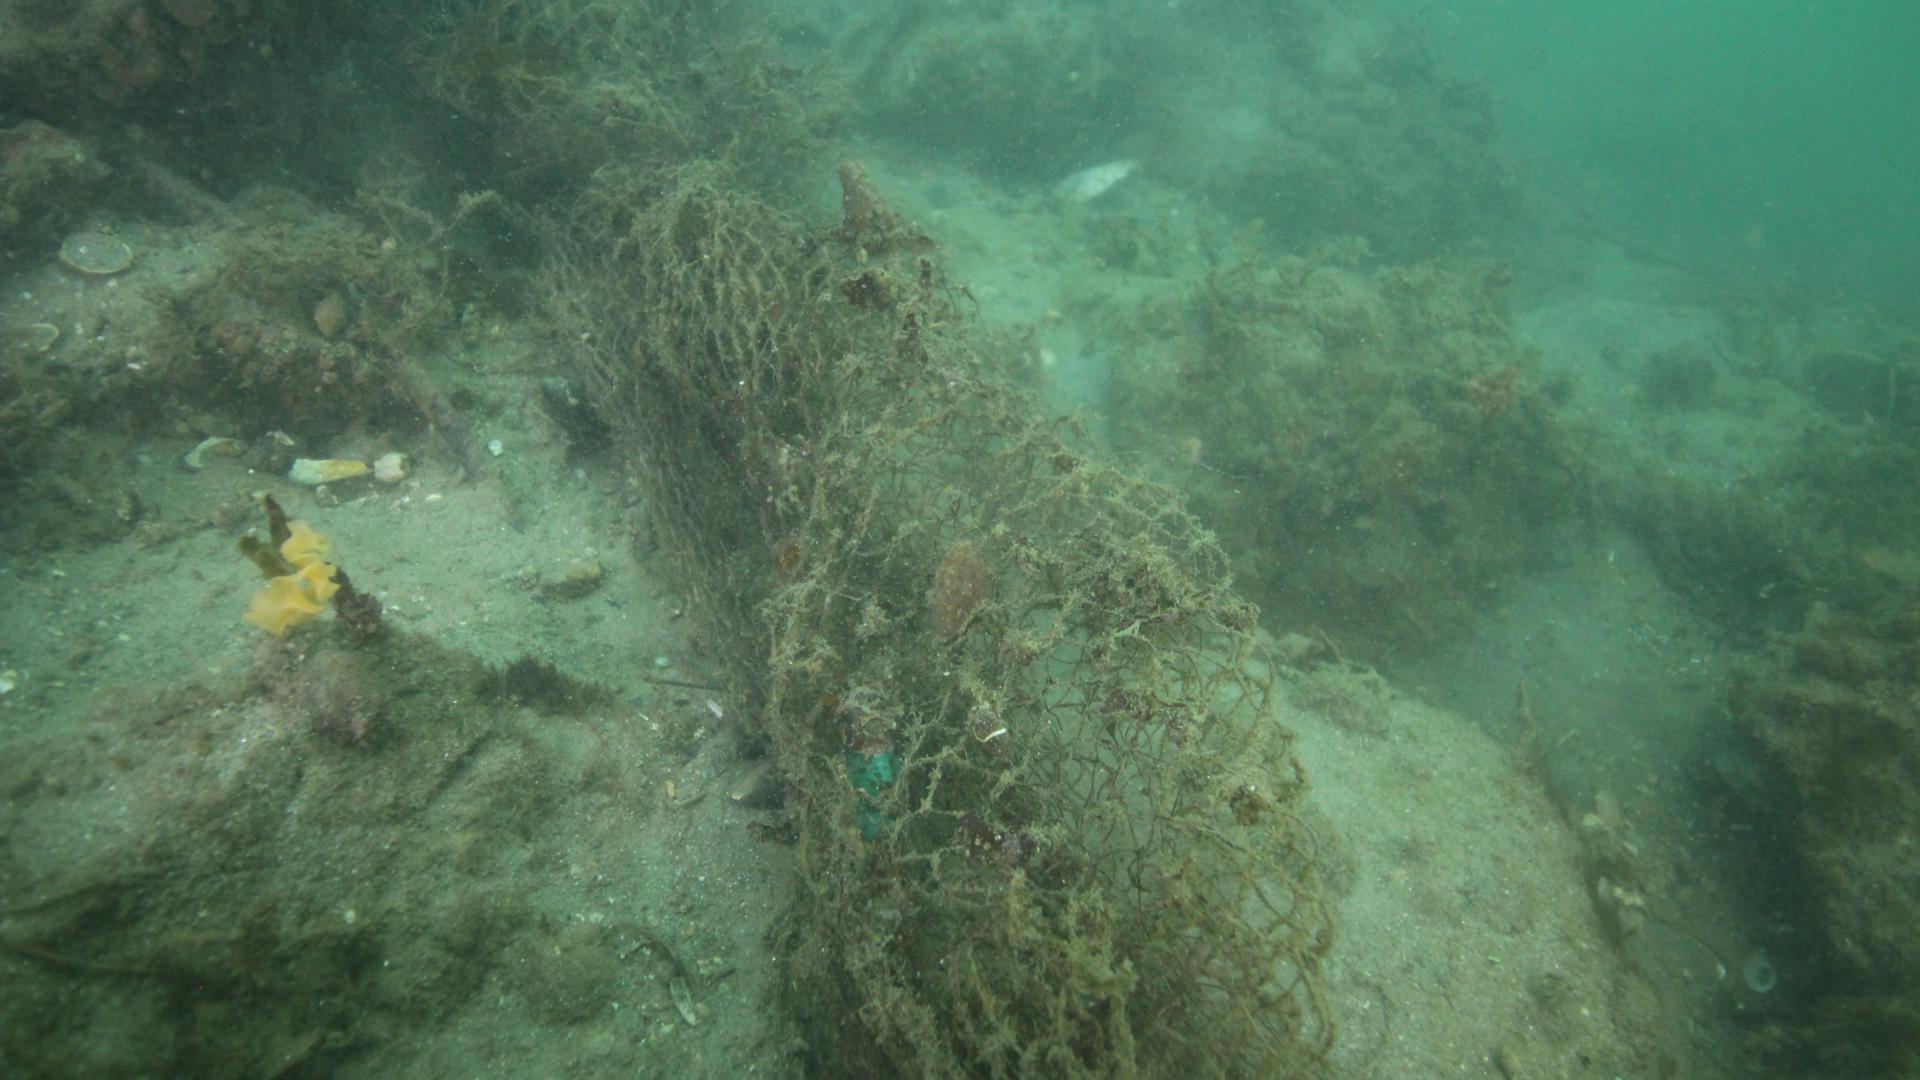fish net: (534, 185, 1336, 1080)
